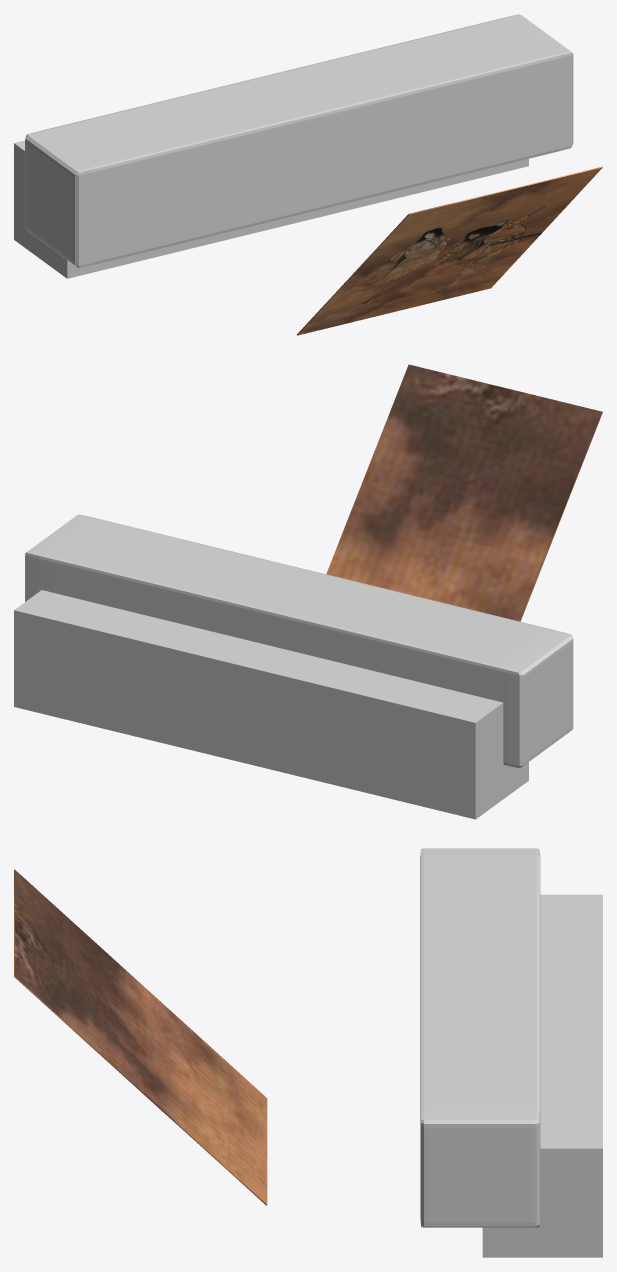
Rendered from PaperRoller.gltf.
3 renders of one model, top to bottom at view 1: azimuth 30°, elevation 25°; view 2: azimuth 150°, elevation 25°; view 3: azimuth 270°, elevation 25°, orthographic. The views are drawn at different scales.
Parts seen in each view (by area): view 1: Cube.001, Plane.001, Cube; view 2: Cube, Cube.001, Plane.001; view 3: Cube.001, Plane.001, Cube.
Part boxes in pixels (x1,y1,x2,y2): Cube.001: (25,14,573,267); Plane.001: (297,166,602,335); Cube: (14,140,528,278); Cube: (14,590,528,819); Cube.001: (25,514,573,767); Plane.001: (326,364,602,621); Cube.001: (420,848,540,1227); Plane.001: (14,869,267,1205); Cube: (482,894,602,1257).
Bounding box in the file's own units: 10.8 × 4.21 × 9.8.
Materials: 1 (1 with a texture image).
